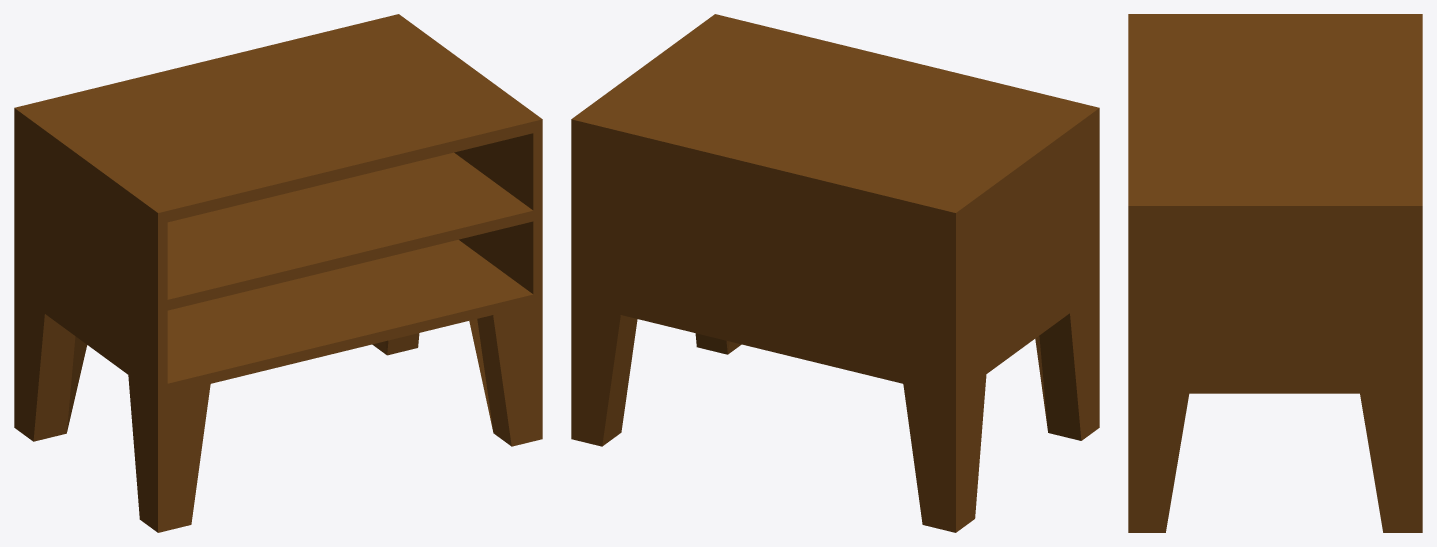
The model's file is MesaLuzBase.fbx.
3 views of the same model, side by side, from view 1: azimuth 30°, elevation 25°; view 2: azimuth 150°, elevation 25°; view 3: azimuth 270°, elevation 25° (orthographic). The views are drawn at different scales.
Visible parts, largest first — view 1: Cube.001; view 2: Cube.001; view 3: Cube.001.
Part boxes in pixels (box(x1,y1,x2,y2)): Cube.001: box(14, 14, 542, 532); Cube.001: box(571, 14, 1099, 532); Cube.001: box(1128, 14, 1422, 532).
Size of the model in its own units: 123 by 98.04 by 79.94.
